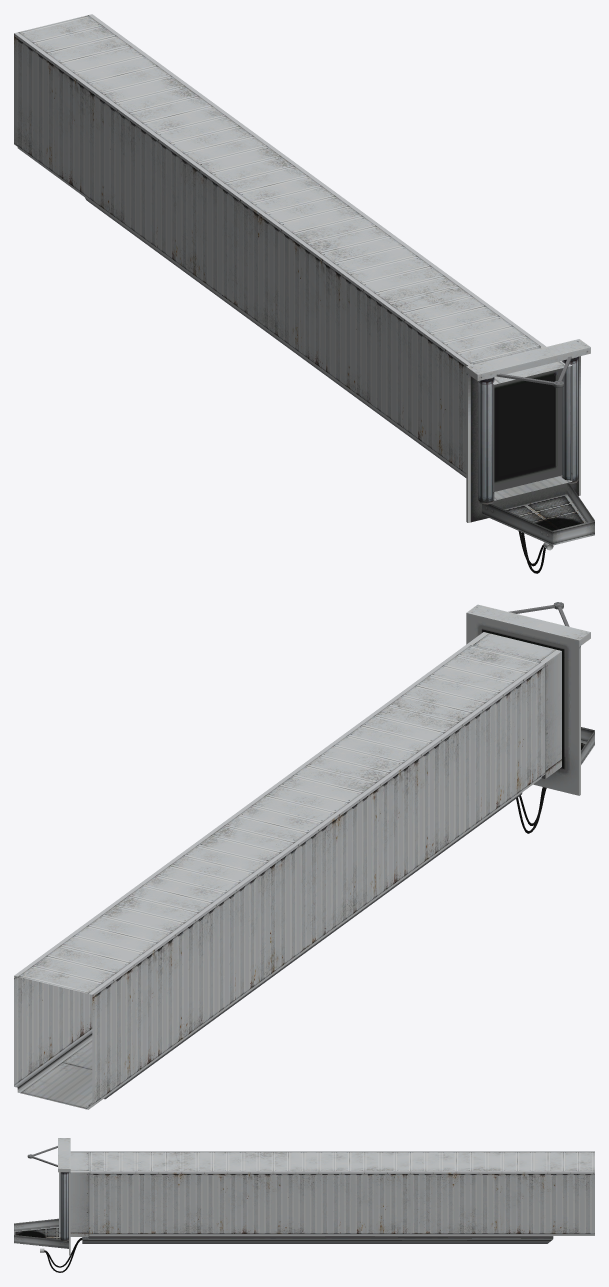
The model's file is jw_tunnel_2_11a.gltf.
3 views of the same model, one above another, from view 1: azimuth 30°, elevation 25°; view 2: azimuth 150°, elevation 25°; view 3: azimuth 270°, elevation 25° (orthographic). The views are drawn at different scales.
Visible parts, largest first — view 1: jw_tunnel_2_11a; view 2: jw_tunnel_2_11a; view 3: jw_tunnel_2_11a.
Boxes of the visible parts, x1=… form: jw_tunnel_2_11a: x1=14, y1=14, x2=594, y2=573; jw_tunnel_2_11a: x1=14, y1=602, x2=594, y2=1109; jw_tunnel_2_11a: x1=14, y1=1138, x2=594, y2=1272.
Bounding box in the file's own units: 2.4 × 4.33 × 19.12.
